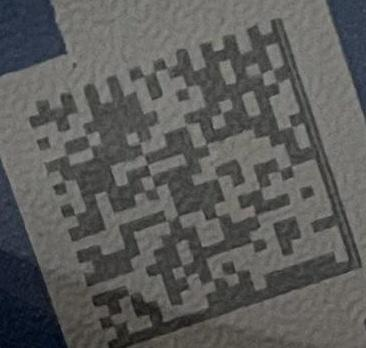datamatrix: (29, 18, 364, 346)
